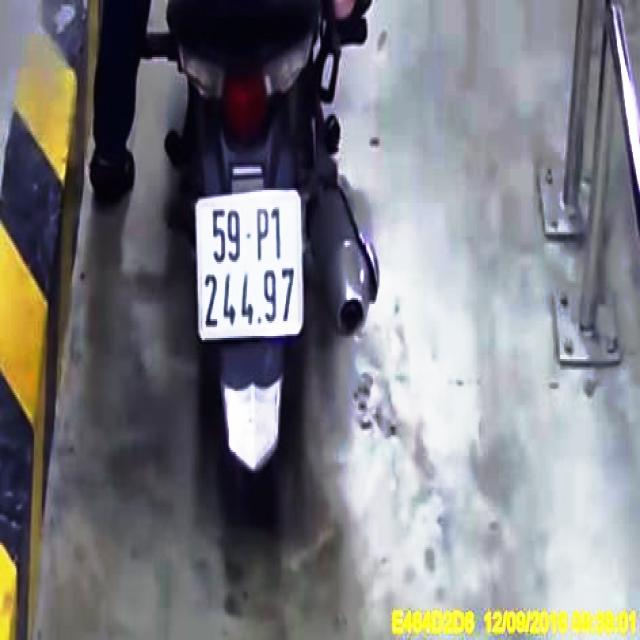license_plate: (200, 191, 305, 335)
